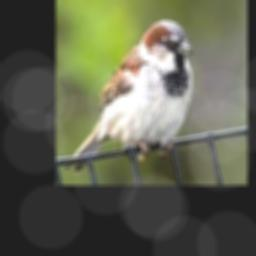Sparrow: (64, 20, 192, 174)
